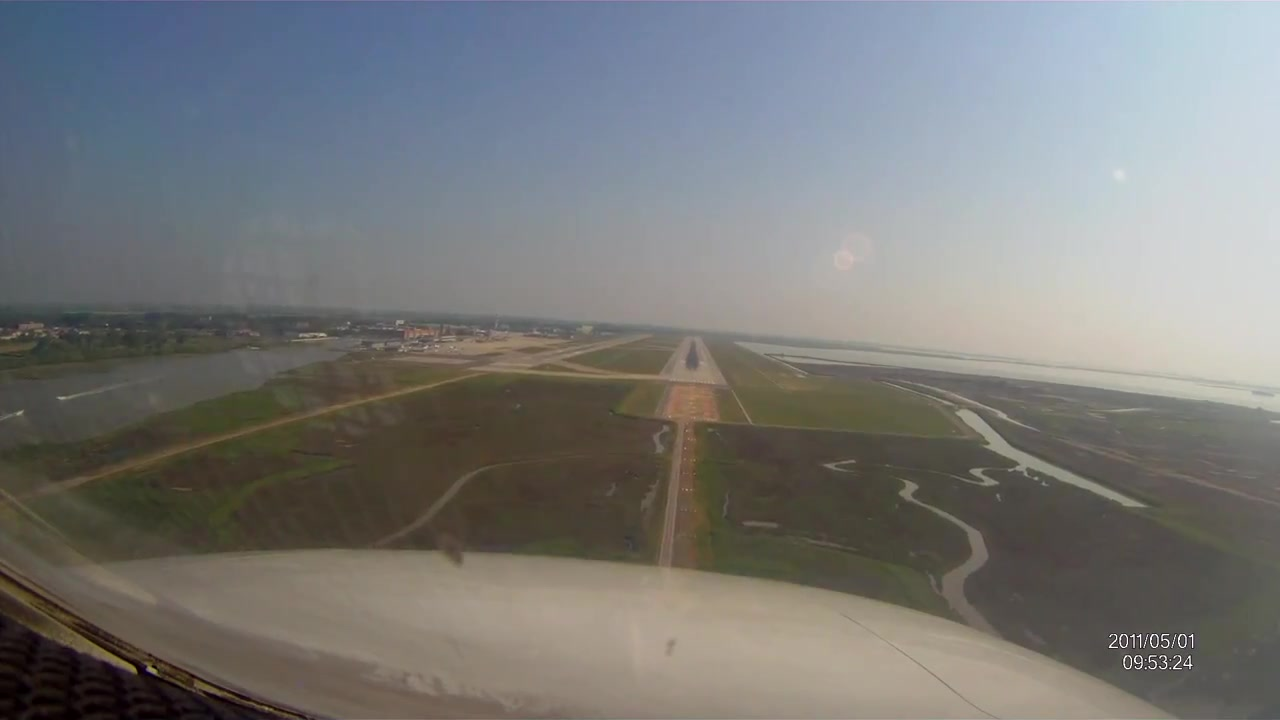runway: (670, 338, 716, 384)
